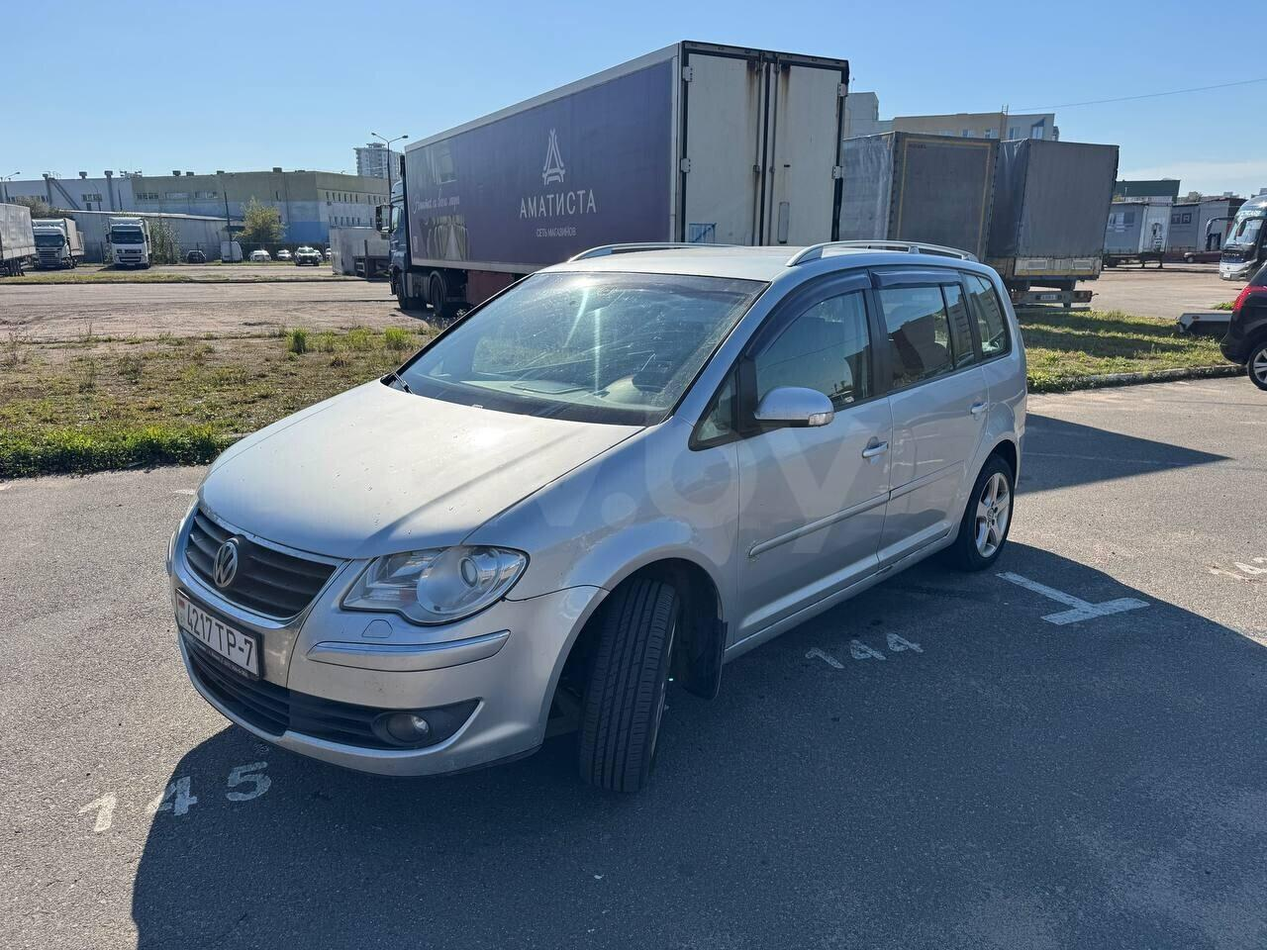Touran_2006-2010: (162, 245, 1031, 795)
